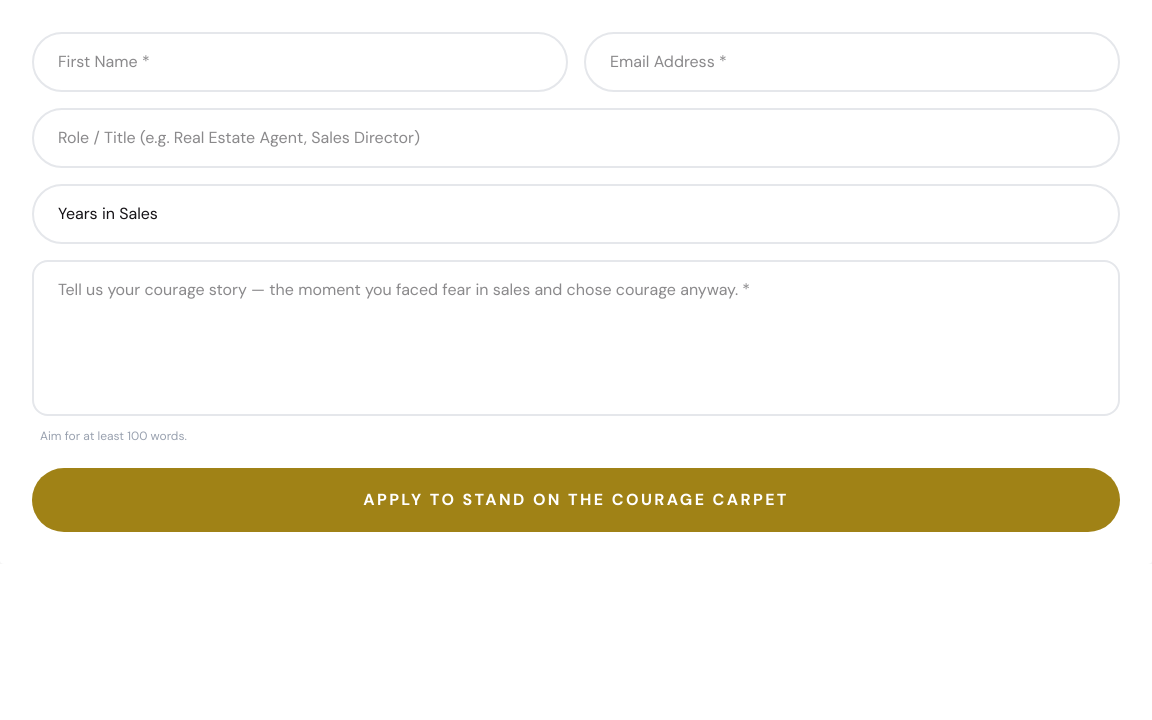
Scenario: FearXApplyForm component › error state › shows an error alert when the API returns an error
Type "Jane" into the field with placeholder "First Name *".
click(300, 62); type("Jane")  # box [32,32,568,92]
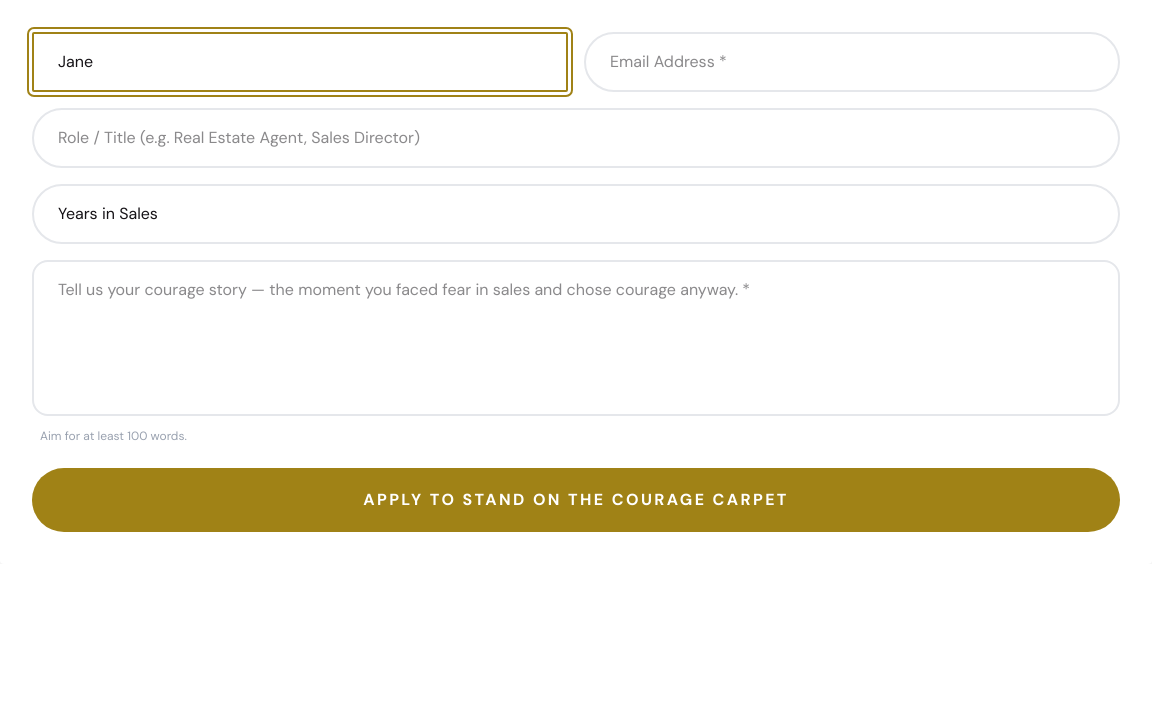
Type "jane@example.com" into the field with placeholder "Email Address *".
click(852, 62); type("jane@example.com")  # box [584,32,1120,92]
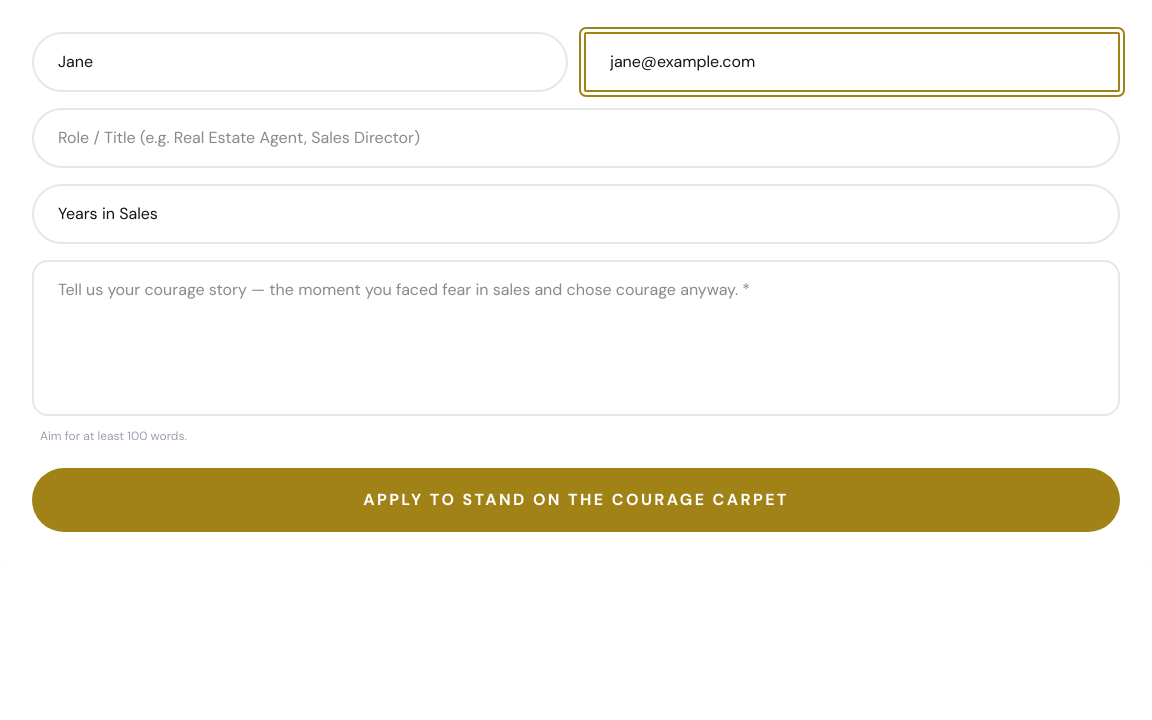
Type "Sales Director" into the field with placeholder "Role / Title (e.g. Real Estate Agent, Sales Director)".
click(576, 138); type("Sales Director")  # box [32,108,1120,168]
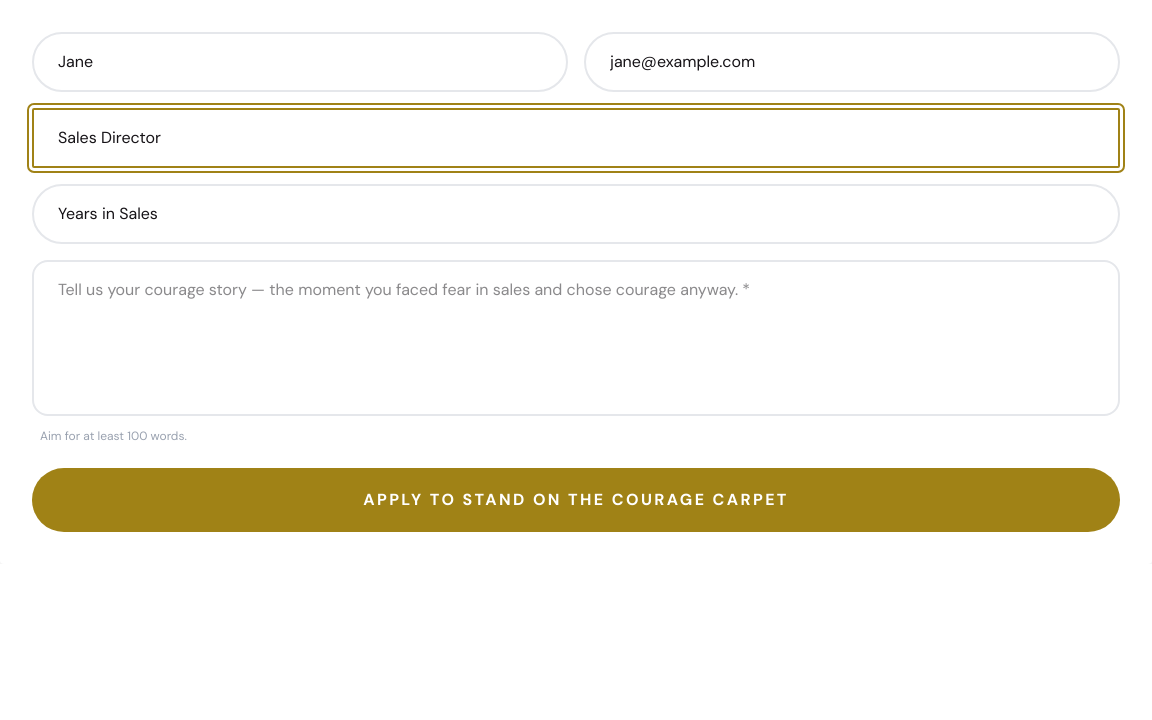
Type "I faced fear every day for years and finally chose courage over comfort in a high-stakes deal." into the text box labelled "courage story".
click(576, 338); type("I faced fear every day for years and finally chose courage over comfort in a high-stakes deal.")  # box [32,260,1120,416]
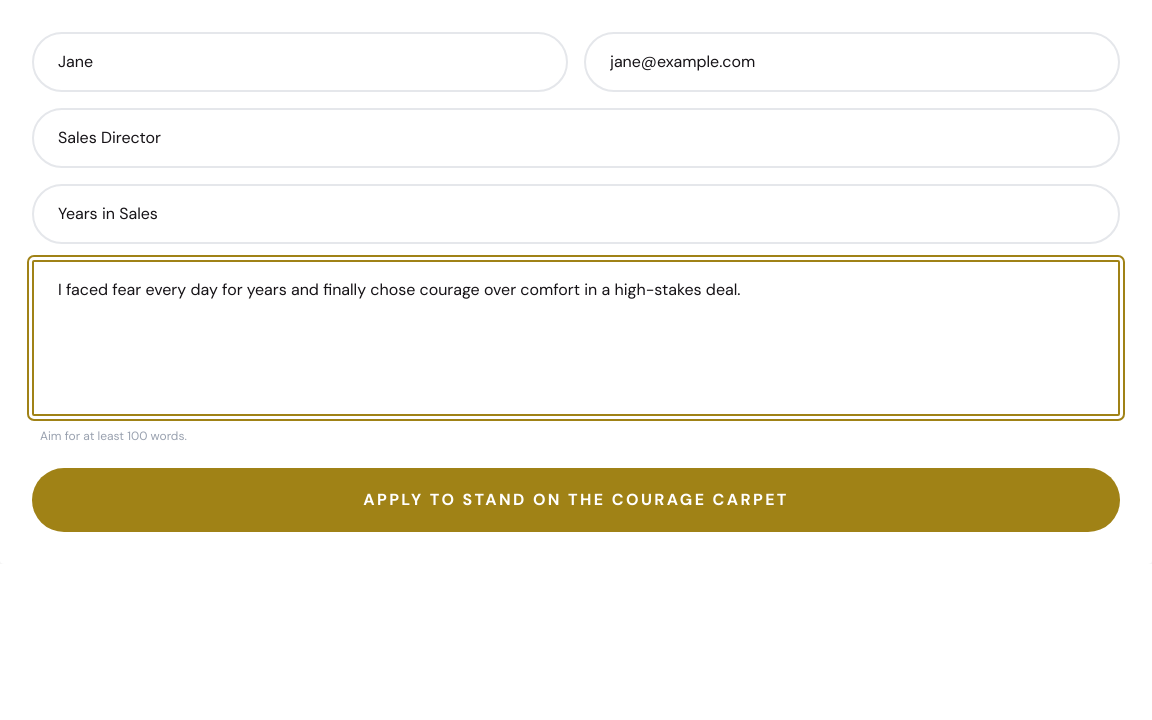
Click the button "Apply to Stand on the Courage Carpet".
click(576, 500)  # box [32,468,1120,532]
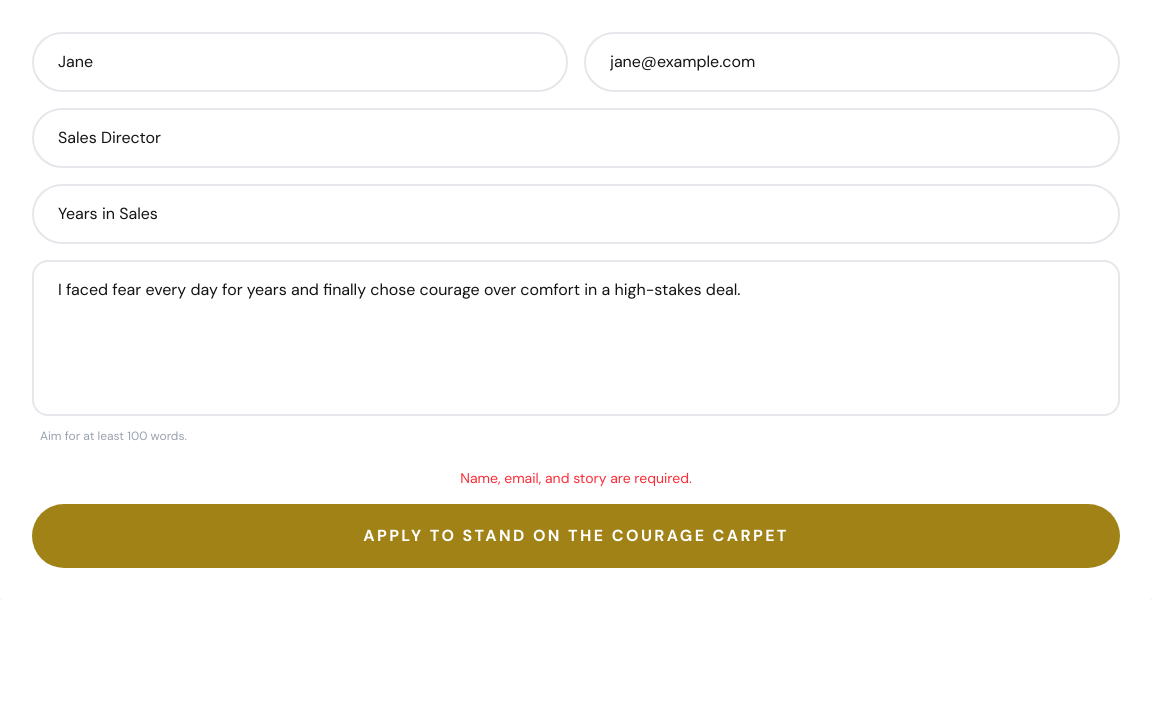
Check: the message shows "Name, email, and story are required", box [460,469,692,487]
